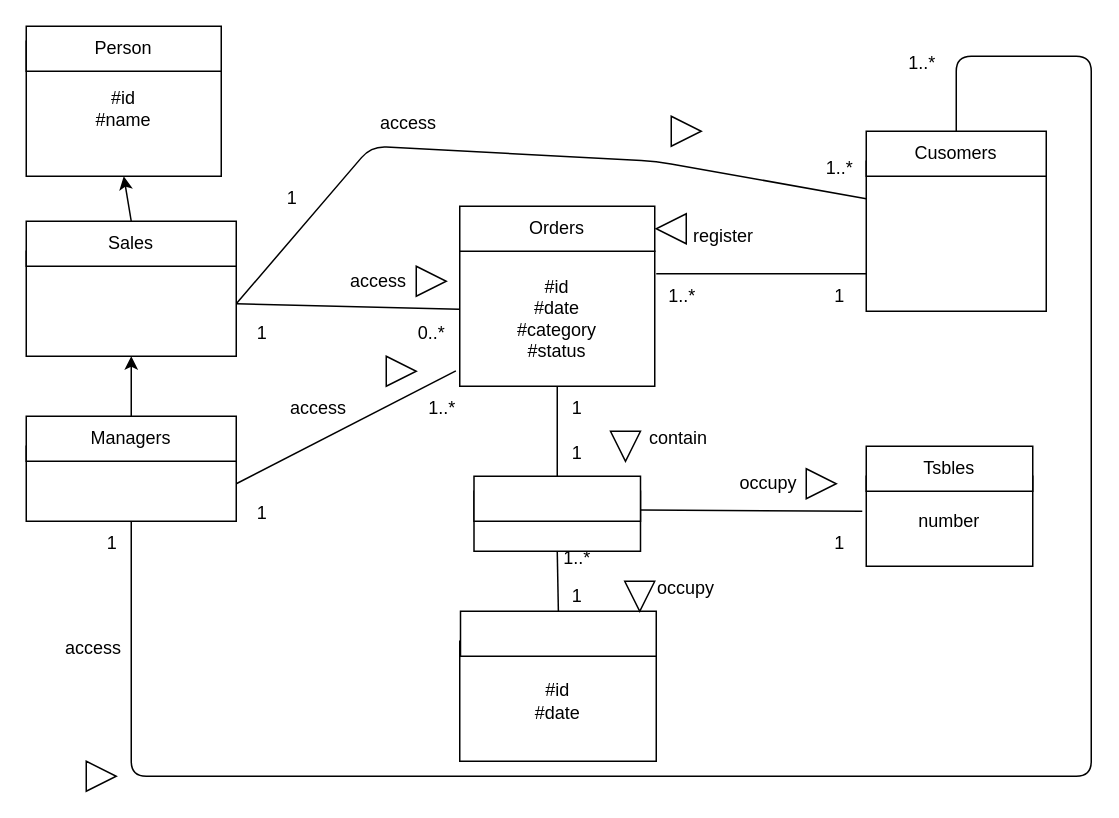
This 1119x818 diagram has some shape labels left out. The box of each missing label's shape, as (x1, y1, x2, y2) in pixels:
#level: (25, 445, 236, 521)
#phoneNumber #name #email: (865, 160, 1046, 311)
#title: (25, 250, 236, 356)
Details: (472, 475, 640, 521)
Periods: (459, 610, 656, 656)
